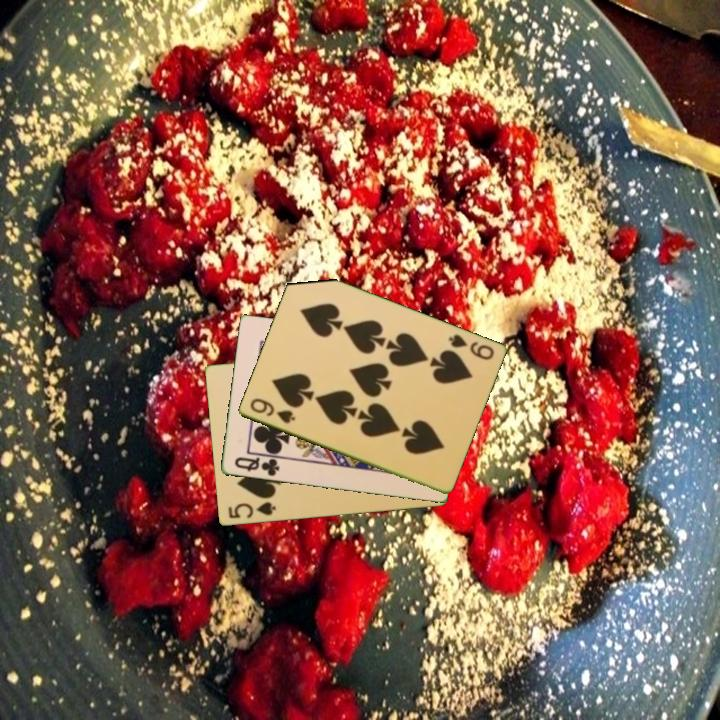5s: (224, 499, 278, 522)
9s: (444, 331, 497, 363), (246, 395, 298, 427)
Qc: (231, 453, 282, 479)
